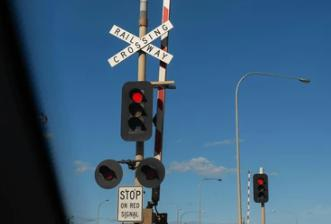red_light: (120, 81, 153, 141), (253, 174, 269, 202)
